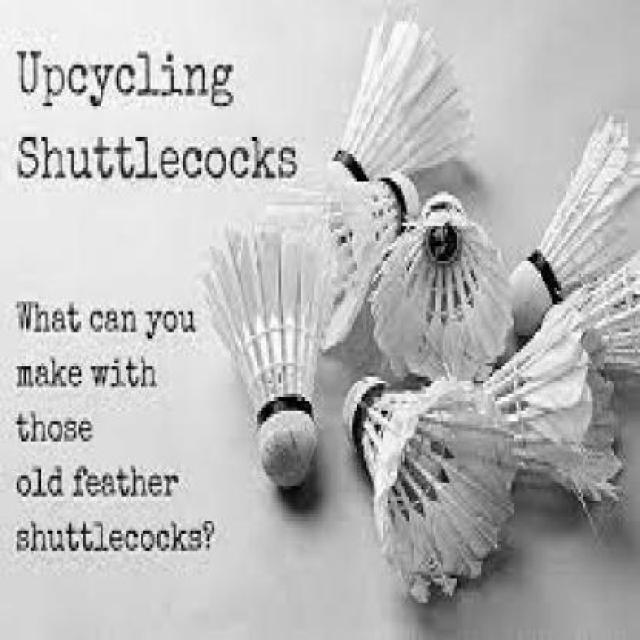Shuttlecock: (344, 376, 516, 606), (200, 226, 332, 499), (511, 111, 640, 337), (371, 189, 515, 386), (326, 9, 477, 196)
